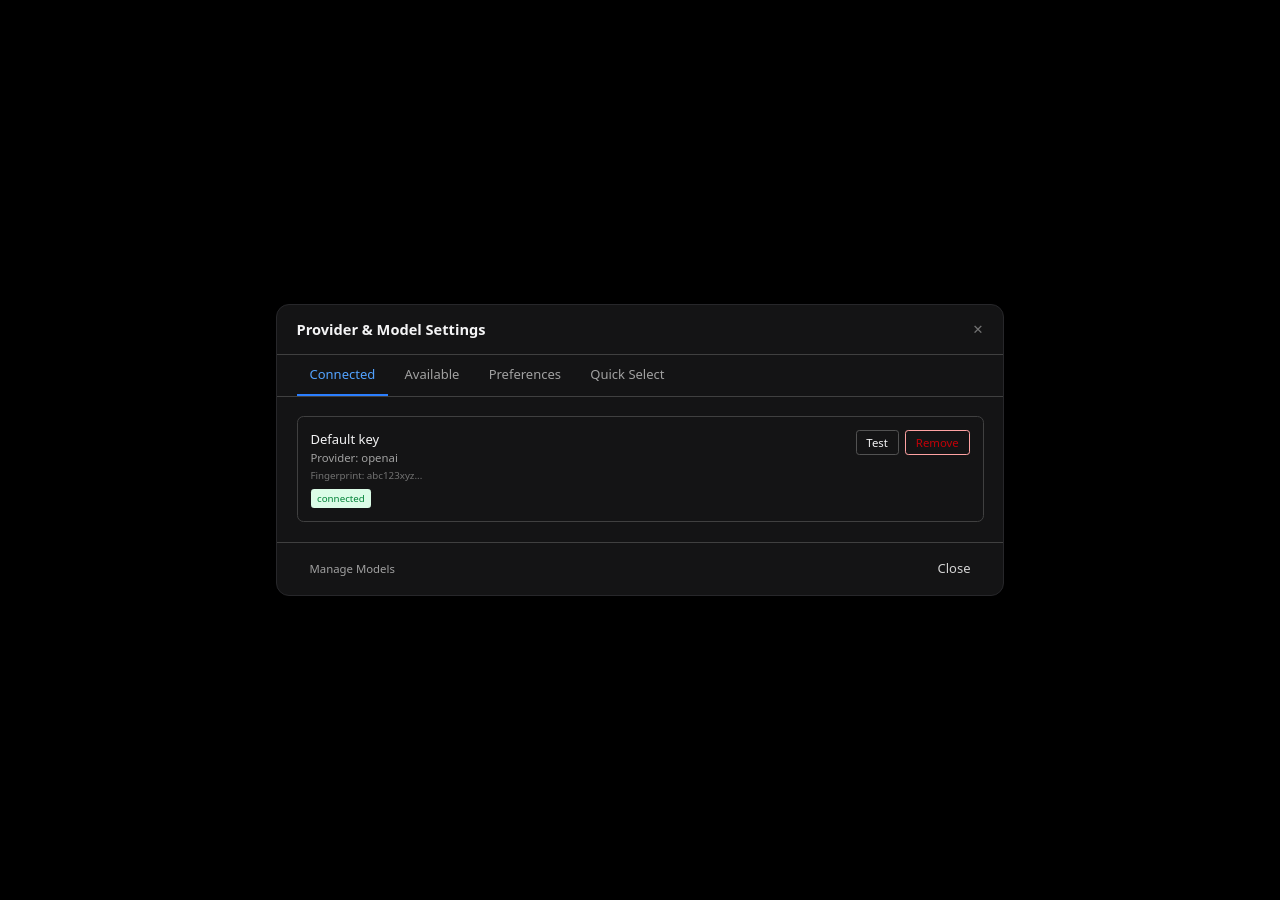
ProviderDialog › Available tab › shows form to add new credential
Click the button "Available".
click(432, 375)  # box top-left (392, 355), bottom-right (472, 396)
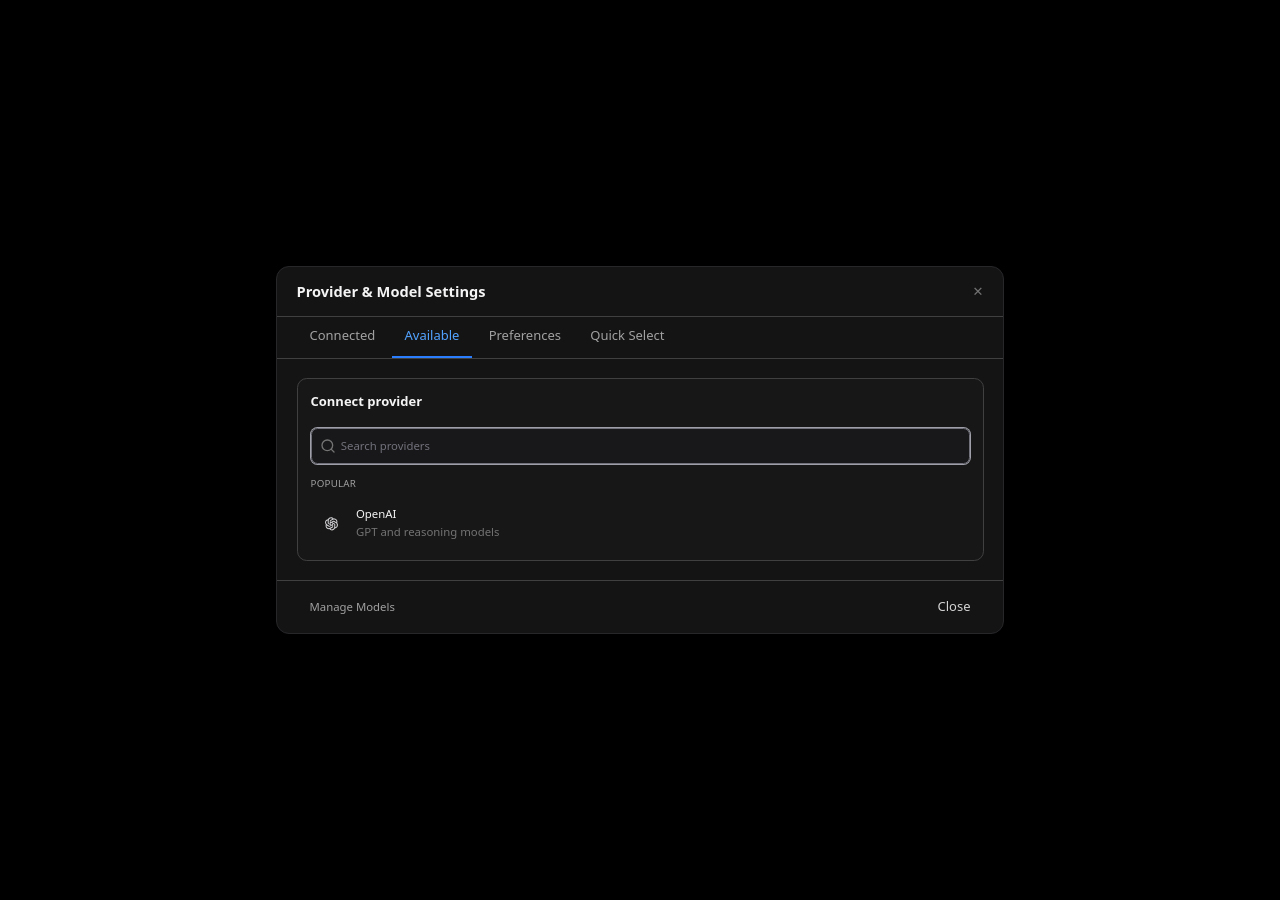
Expected: the field named "find provider" is shown, top-left (310, 428), bottom-right (970, 464)
